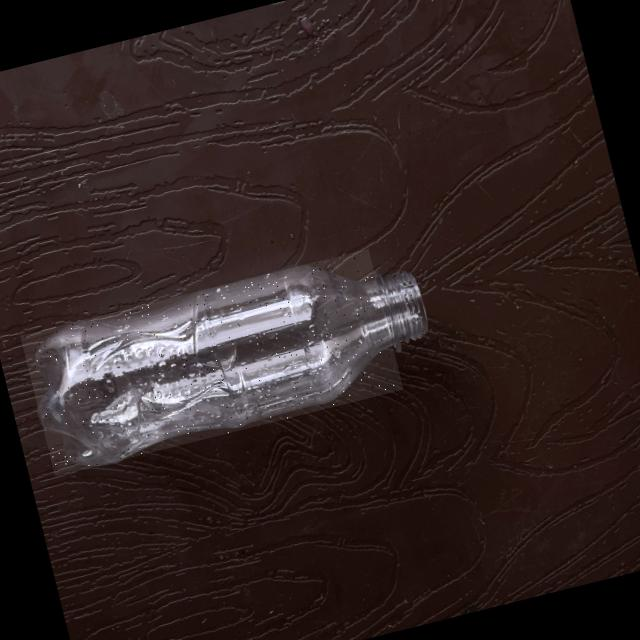PET_With_Liquid: (36, 266, 383, 464)
